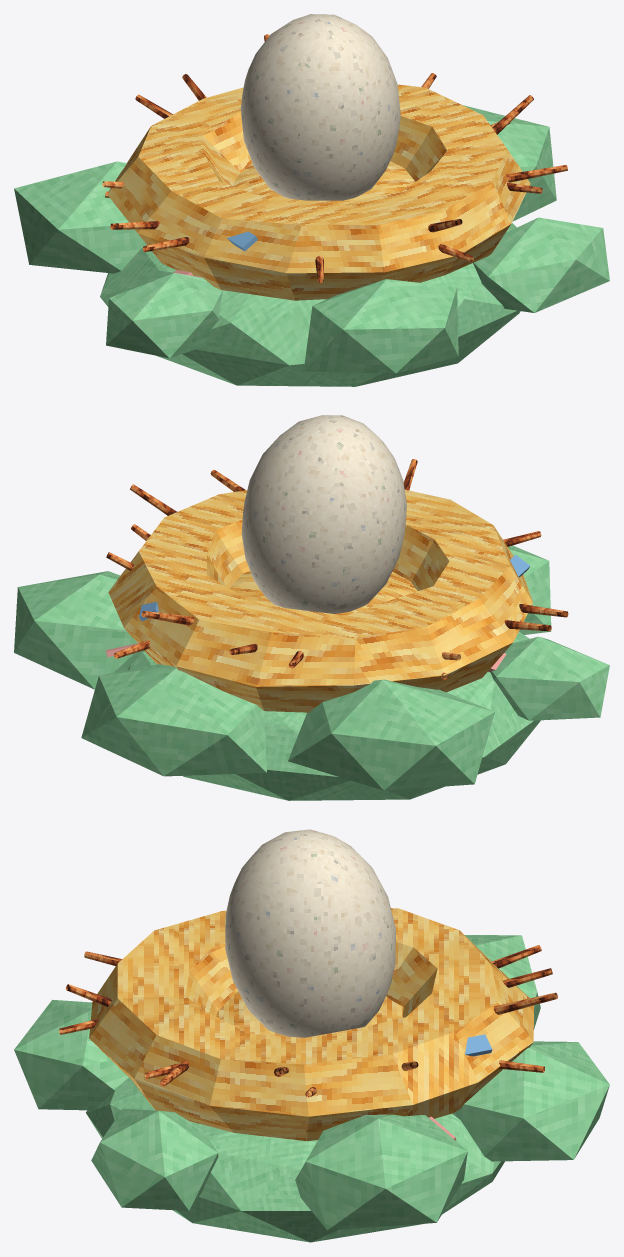
The model's file is nest.glb.
The picture shows the model from 3 angles, top to bottom: view 1: azimuth 30°, elevation 25°; view 2: azimuth 150°, elevation 25°; view 3: azimuth 270°, elevation 25°; orthographic projection. The views are drawn at different scales.
Visible parts, largest first — view 1: Nest, Egg; view 2: Nest, Egg; view 3: Nest, Egg.
Boxes of the visible parts, x1,y1,x2,y2 form: Nest: (14, 34, 609, 386); Egg: (240, 14, 400, 200); Nest: (14, 459, 609, 800); Egg: (241, 415, 406, 613); Nest: (14, 908, 609, 1242); Egg: (225, 829, 395, 1037).
Bounding box in the file's own units: 3.19 × 2 × 3.05.
6 materials, 4 textured.
